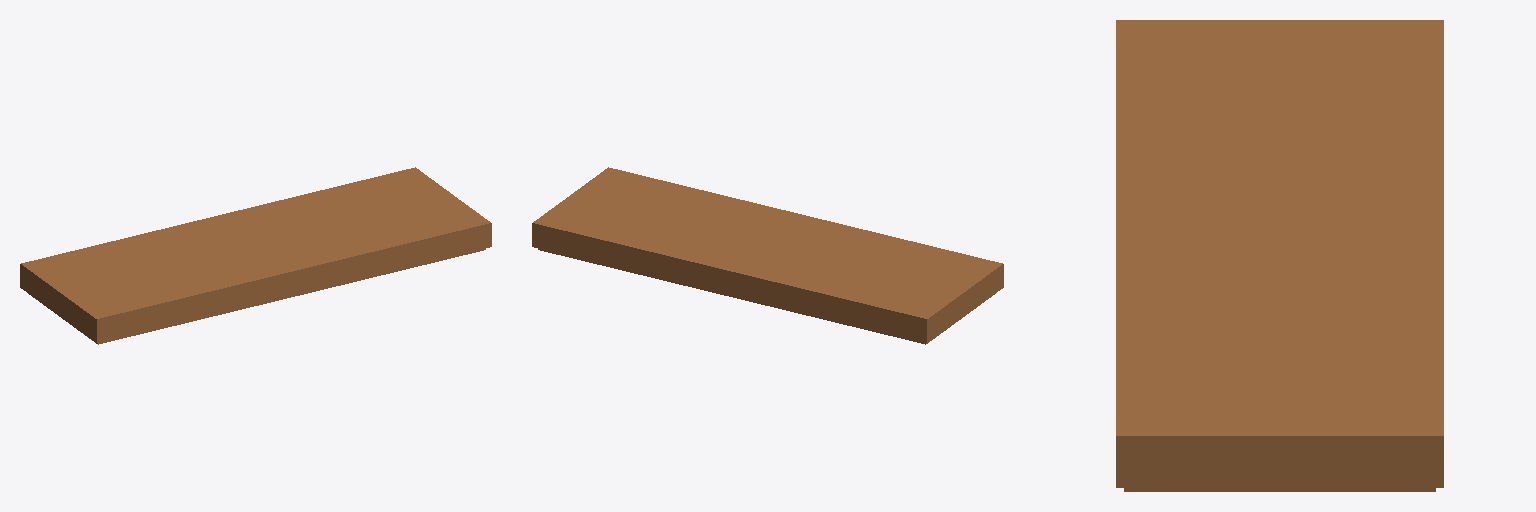
The robot description file, URDF, robot "69729__medium_nougat":
<?xml version="1.0"?>
<robot name="69729__medium_nougat">
  <link name="69729__medium_nougat">
    <inertial>
      <origin xyz="0.000000 -0.000000 -0.001594" rpy="0 0 0"/>
      <mass value="0.002570"/>
      <inertia ixx="5.667820268e-08" ixy="-0.000000000e+00" ixz="-1.130910994e-25" iyy="4.946025752e-07" iyz="5.768246203e-26" izz="5.469229933e-07"/>
    </inertial>
    <visual>
      <geometry>
        <mesh filename="../meshes/visual/69729.obj" scale="1 1 1"/>
      </geometry>
      <material name="69729__medium_nougat_color">
        <color rgba="0.680 0.480 0.310 1.000"/>
      </material>
    </visual>
    <collision>
      <geometry>
        <mesh filename="../meshes/collision/69729_hull.obj" scale="1 1 1"/>
      </geometry>
    </collision>
  </link>
</robot>

--- Facts derived from the render (not from the file) ---
The picture shows the robot from 3 angles, left to right: view 1: azimuth 30°, elevation 25°; view 2: azimuth 150°, elevation 25°; view 3: azimuth 270°, elevation 25°; orthographic projection.
Model 69729__medium_nougat with 1 links and 0 joints (none), rooted at 69729__medium_nougat, posed every joint at zero.
Links seen in each view (by area): view 1: 69729__medium_nougat; view 2: 69729__medium_nougat; view 3: 69729__medium_nougat.
Link boxes in pixels (box(x1,y1,x2,y2)): 69729__medium_nougat: box(20, 167, 491, 344); 69729__medium_nougat: box(532, 167, 1003, 344); 69729__medium_nougat: box(1116, 20, 1443, 491).
Bounding box of the posed robot: 0.048 × 0.016 × 0.0032 m (x, y, z).
Meshes: 1 distinct files referenced, 1 mesh visuals loaded (1 OBJ).
